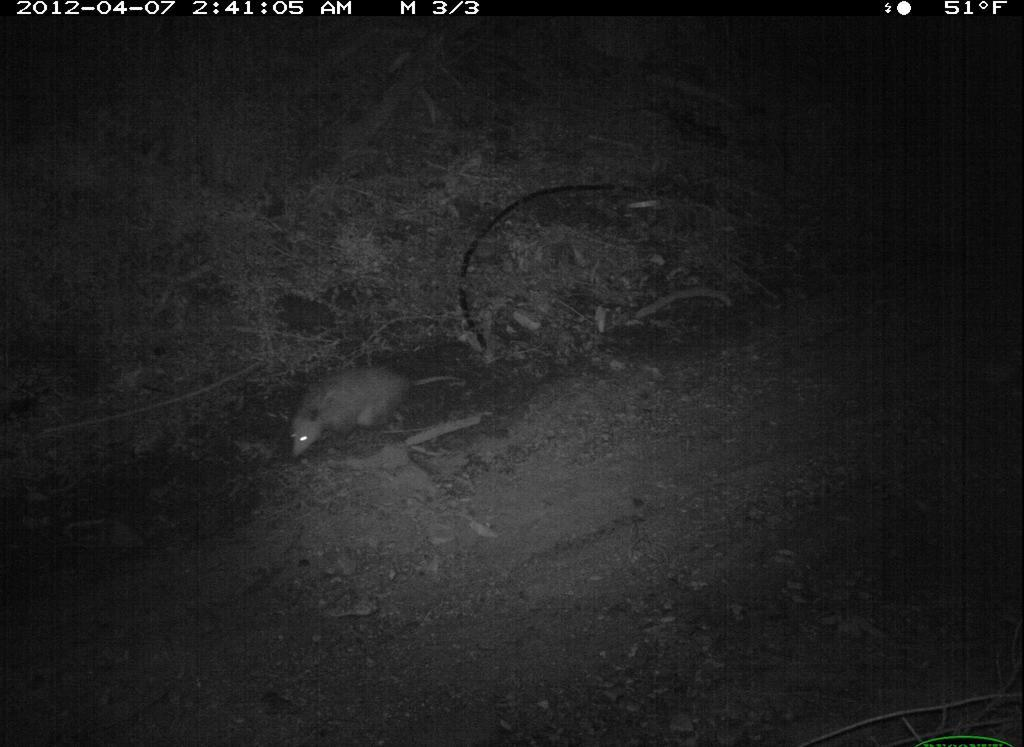opossum: (274, 353, 486, 470)
